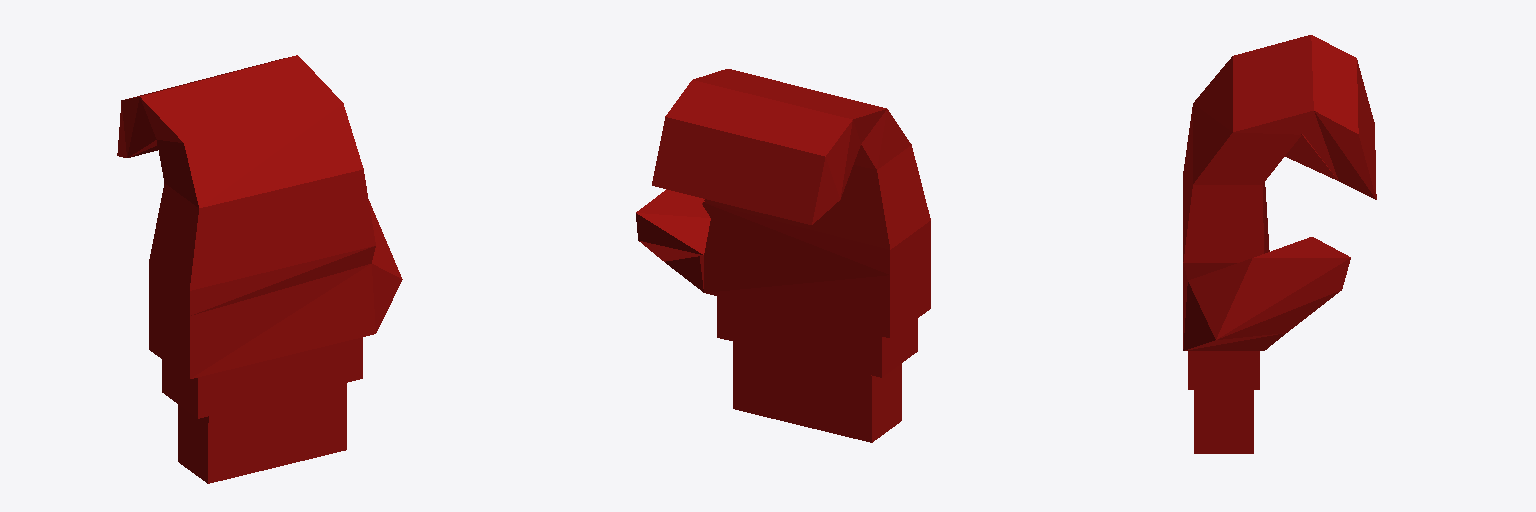
Rendered from lefthandClose.obj.
The picture shows the model from 3 angles: view 1: azimuth 30°, elevation 25°; view 2: azimuth 150°, elevation 25°; view 3: azimuth 270°, elevation 25°; orthographic projection.
Visible parts, largest first — view 1: Cube.001; view 2: Cube.001; view 3: Cube.001.
Boxes of the visible parts, <box> form: Cube.001: <box>117,55,402,483</box>; Cube.001: <box>636,69,930,442</box>; Cube.001: <box>1183,35,1376,453</box>.
Bounding box in the file's own units: 4.04 × 5.87 × 2.95.